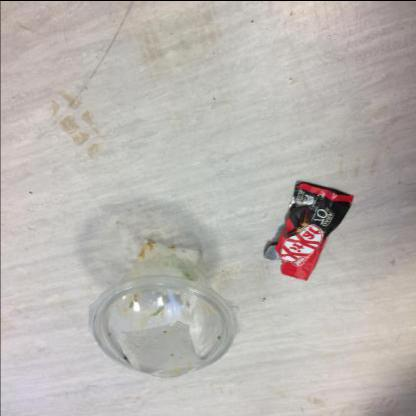Plastic bag - wrapper: (264, 182, 354, 279)
Plastic container: (88, 241, 240, 377)
